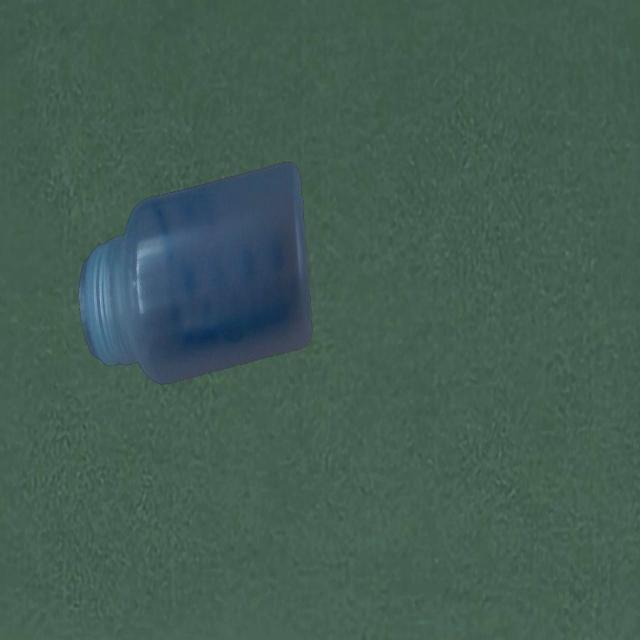bottle: (78, 159, 314, 385)
